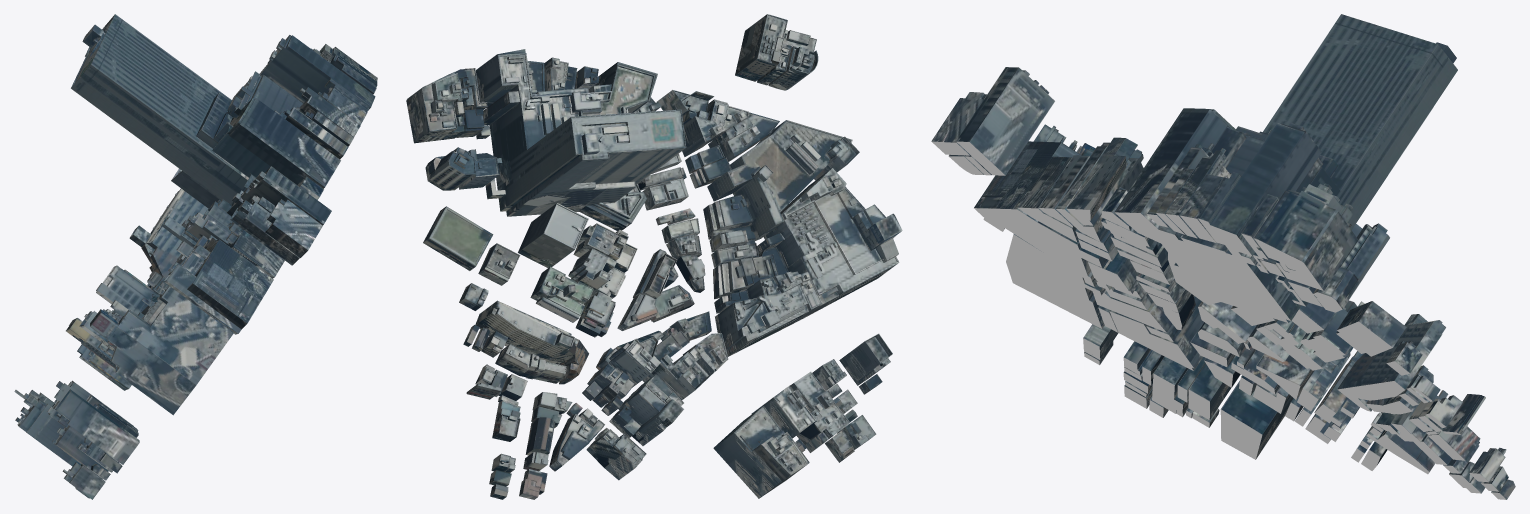
Rendered from l2_data519.glb.
The picture shows the model from 3 angles, left to right: view 1: azimuth 30°, elevation 25°; view 2: azimuth 150°, elevation 25°; view 3: azimuth 270°, elevation 25°; orthographic projection. The views are drawn at different scales.
Size of the model in its own units: 200 by 190 by 212.
2 materials, 1 textured.
